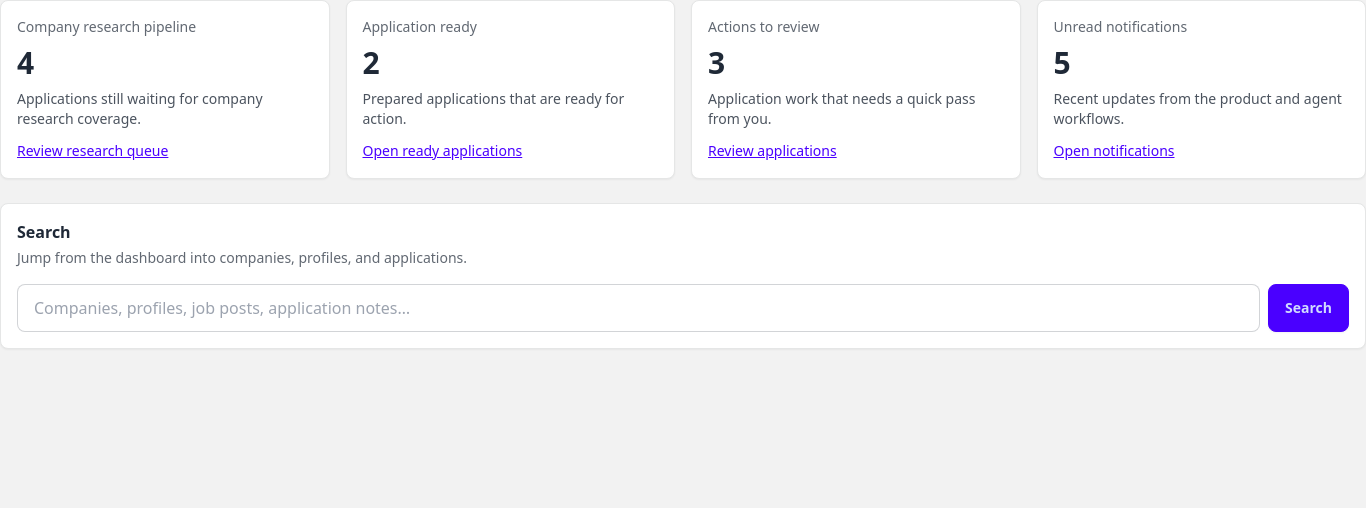
Test: DashboardPage › keeps slower search responses from replacing the newest result
Expected: the text "5" is shown, left=1054, top=42, right=1071, bottom=83
Type "slow" into the field named "Search dashboard" at (639, 308), box left=17, top=284, right=1260, bottom=332
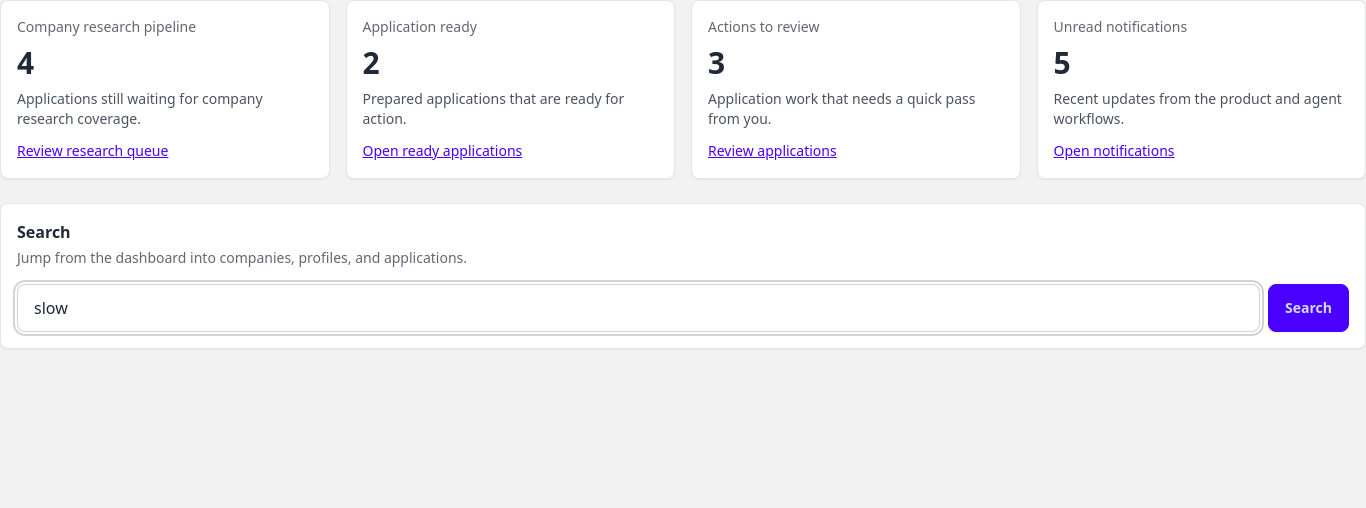
Click the button "Search" at (1309, 308), box left=1268, top=284, right=1349, bottom=332
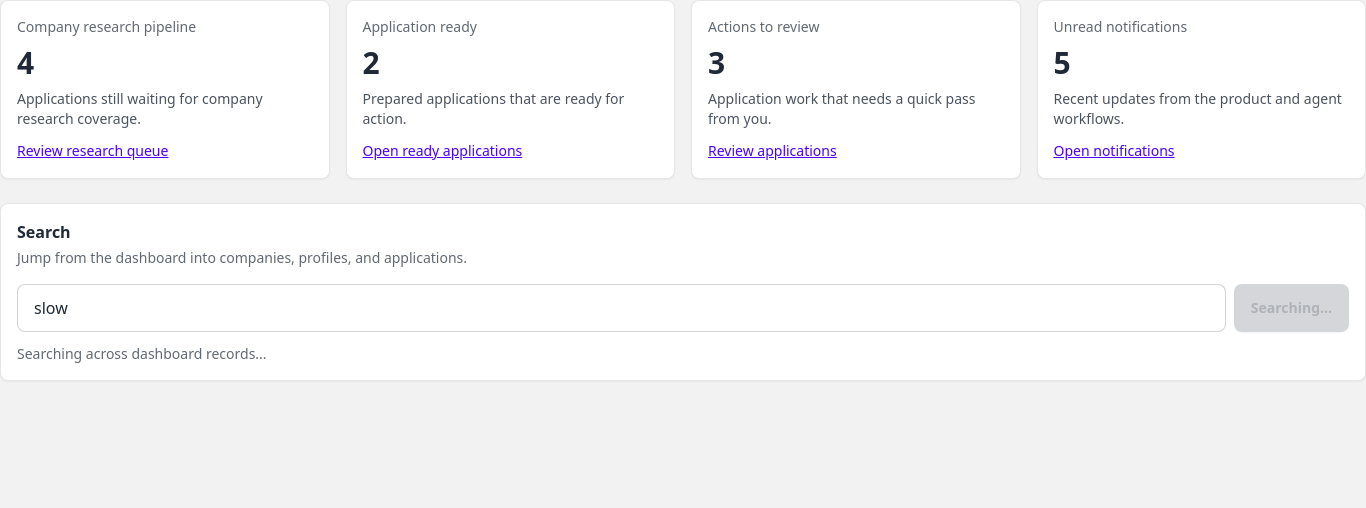
Replace the text in the field named "Search dashboard" with "fast" at (621, 308), box left=17, top=284, right=1226, bottom=332
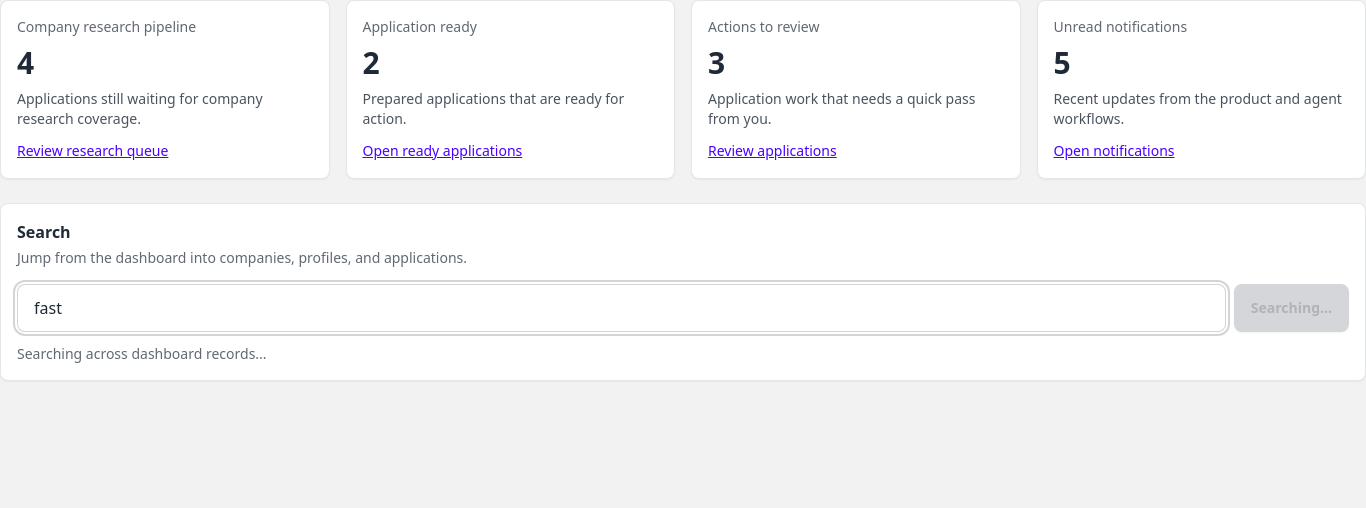
Submit the form named "Search dashboard", box left=17, top=284, right=1349, bottom=332
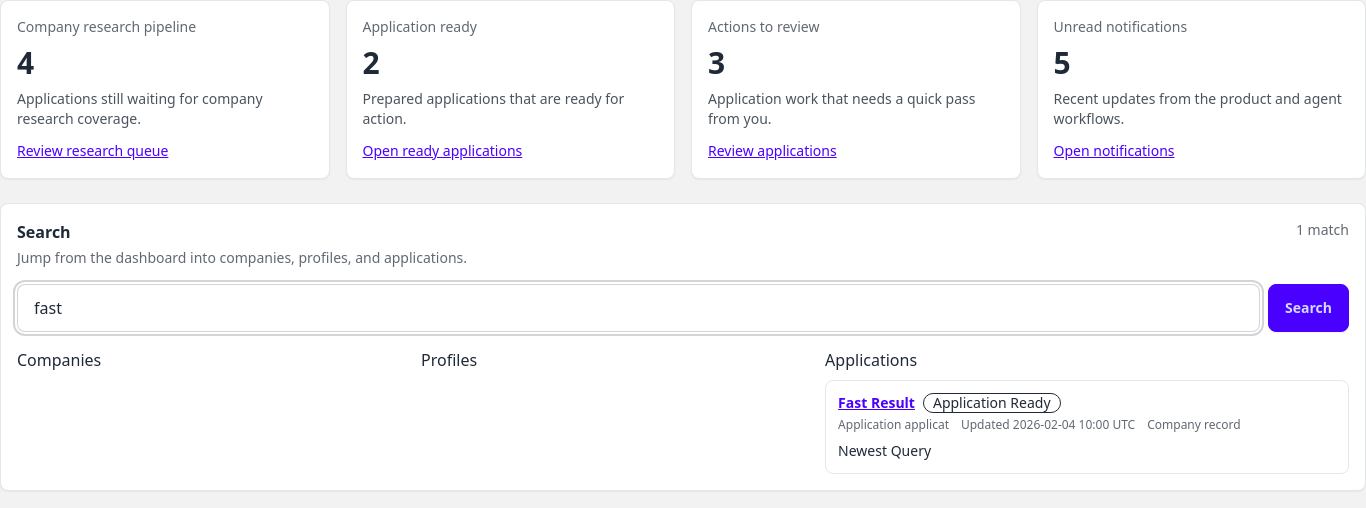
Result: the text "Newest Query" is shown at left=838, top=441, right=931, bottom=460
